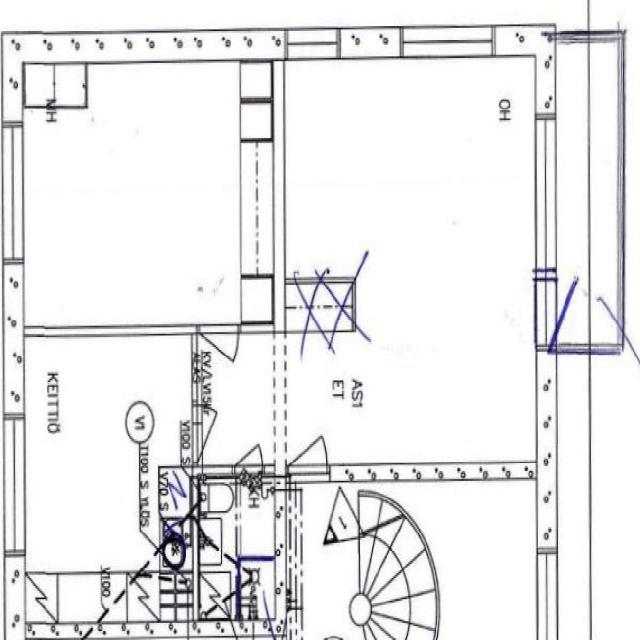door: (536, 278, 602, 346), (288, 407, 327, 481), (200, 324, 238, 390), (192, 405, 235, 461), (234, 422, 263, 478)
